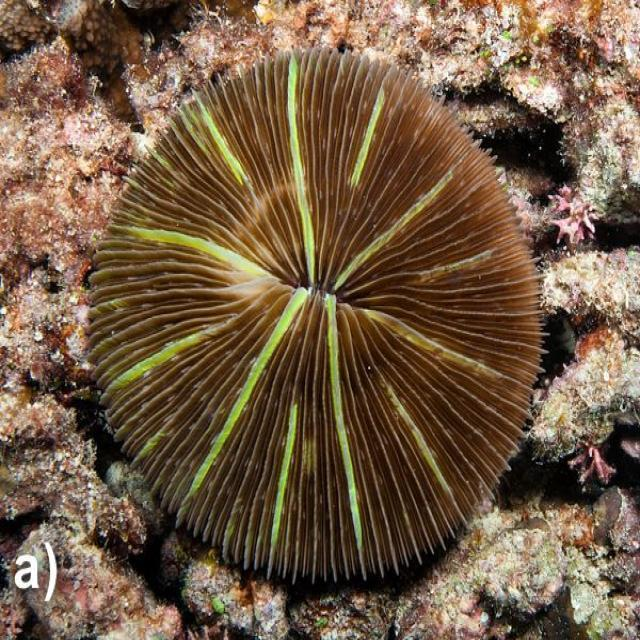Healthy Coral: (92, 52, 544, 599)
